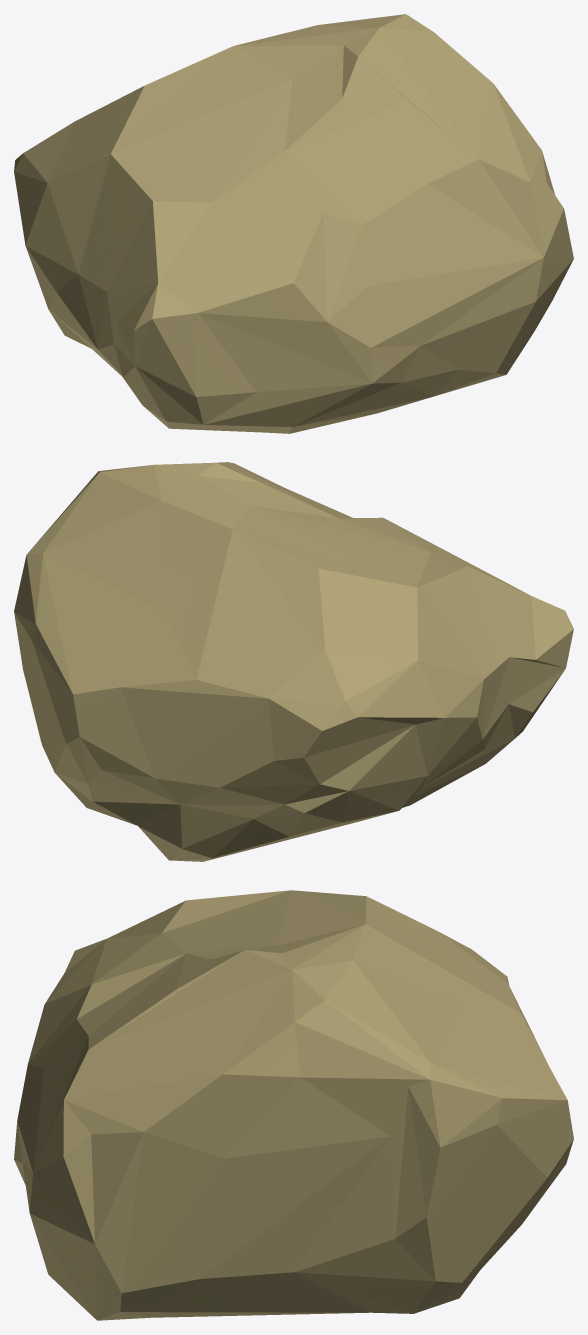
Rendered from SM_rock_46.fbx.
The picture shows the model from 3 angles, top to bottom: view 1: azimuth 30°, elevation 25°; view 2: azimuth 150°, elevation 25°; view 3: azimuth 270°, elevation 25°; orthographic projection. The views are drawn at different scales.
Visible parts, largest first — view 1: rock_46; view 2: rock_46; view 3: rock_46.
Part boxes in pixels (x1,y1,x2,y2): rock_46: (14, 14, 573, 433); rock_46: (14, 462, 573, 861); rock_46: (14, 890, 573, 1320).
Size of the model in its own units: 260 by 184 by 253.
